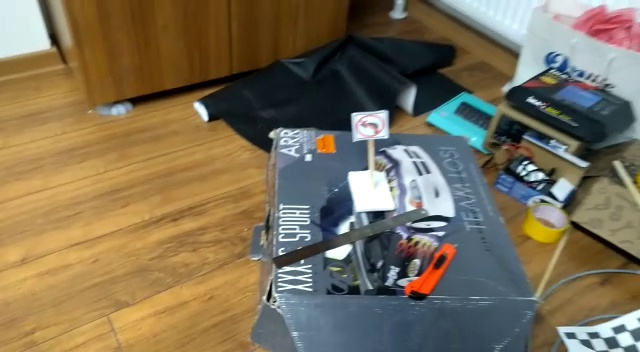sola_donulmez: (356, 113, 386, 140)
